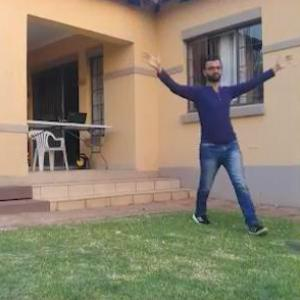takeoff: (153, 50, 299, 243)
